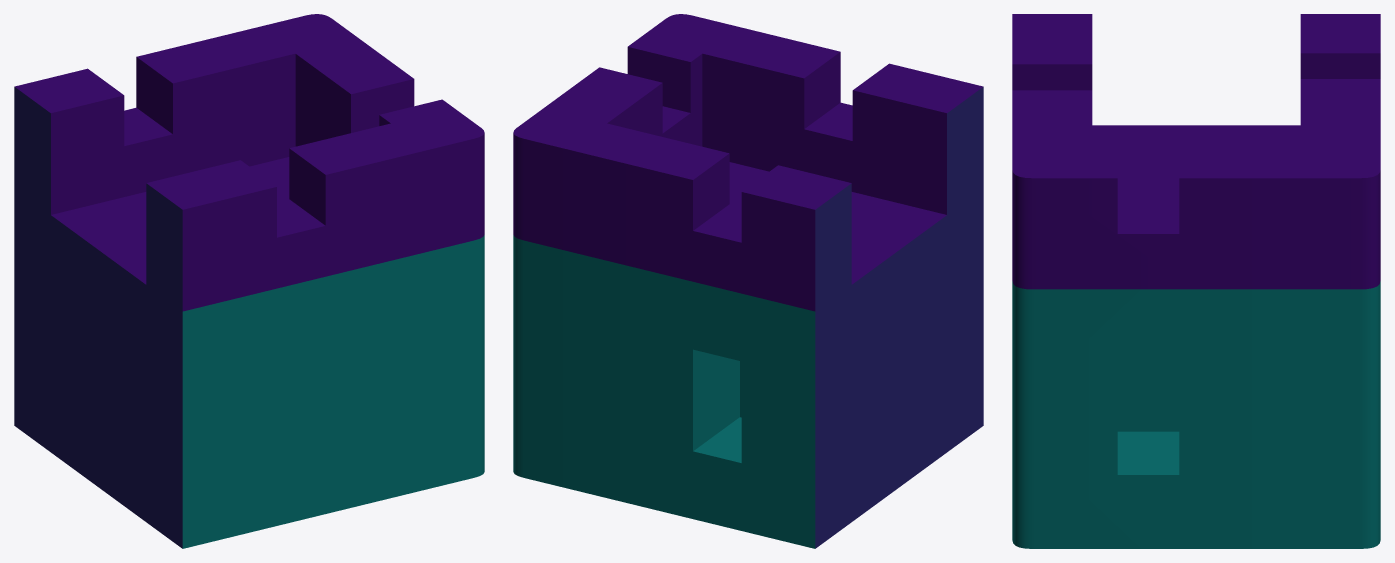
Rendered from Roof_01_I_B.fbx.
3 renders of one model, left to right at view 1: azimuth 30°, elevation 25°; view 2: azimuth 150°, elevation 25°; view 3: azimuth 270°, elevation 25°, orthographic. The views are drawn at different scales.
Parts seen in each view (by area): view 1: 3, 1, 4, 2; view 2: 4, 2, 3, 1; view 3: 2, 1, 3, 4.
Part boxes in pixels (bbox=[...]): 3: bbox=[98, 143, 344, 548]; 1: bbox=[308, 73, 484, 509]; 4: bbox=[14, 47, 212, 486]; 2: bbox=[177, 14, 405, 201]; 4: bbox=[653, 143, 899, 548]; 2: bbox=[513, 73, 689, 509]; 3: bbox=[785, 47, 983, 486]; 1: bbox=[592, 14, 820, 206]; 2: bbox=[1196, 100, 1380, 548]; 1: bbox=[1012, 100, 1196, 548]; 3: bbox=[1012, 14, 1196, 199]; 4: bbox=[1196, 14, 1380, 144].
Bounding box in the file's own units: 190 × 200 × 180.
